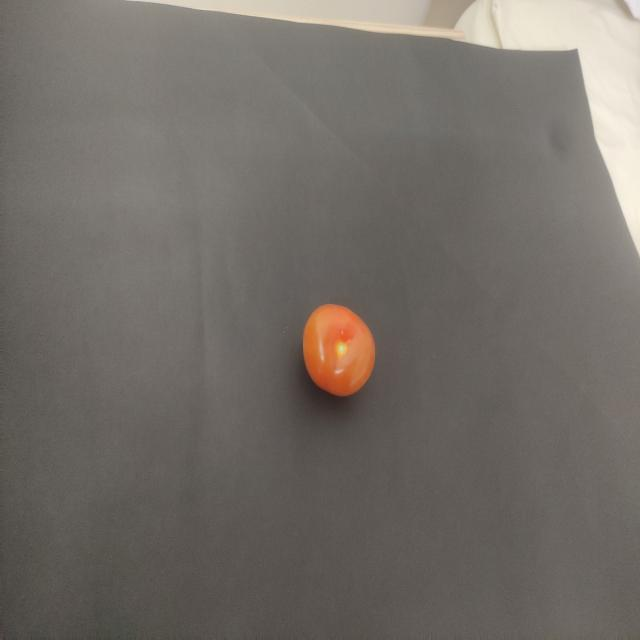sari: (285, 284, 395, 409)
